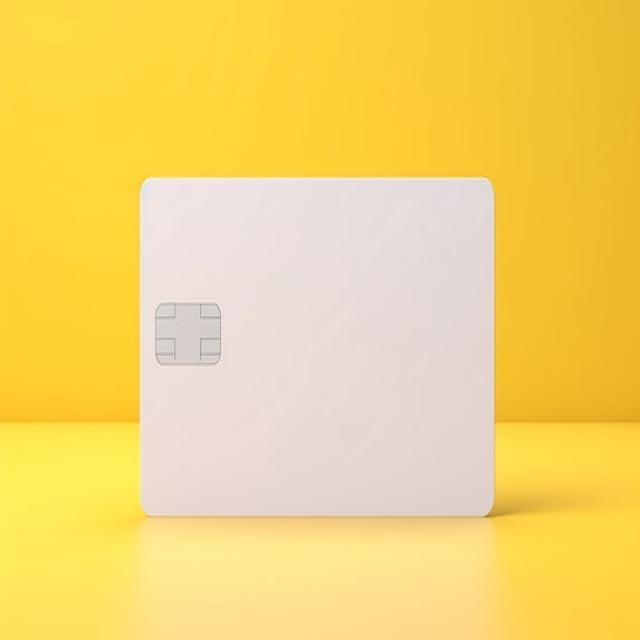payment_card: (138, 176, 496, 518)
